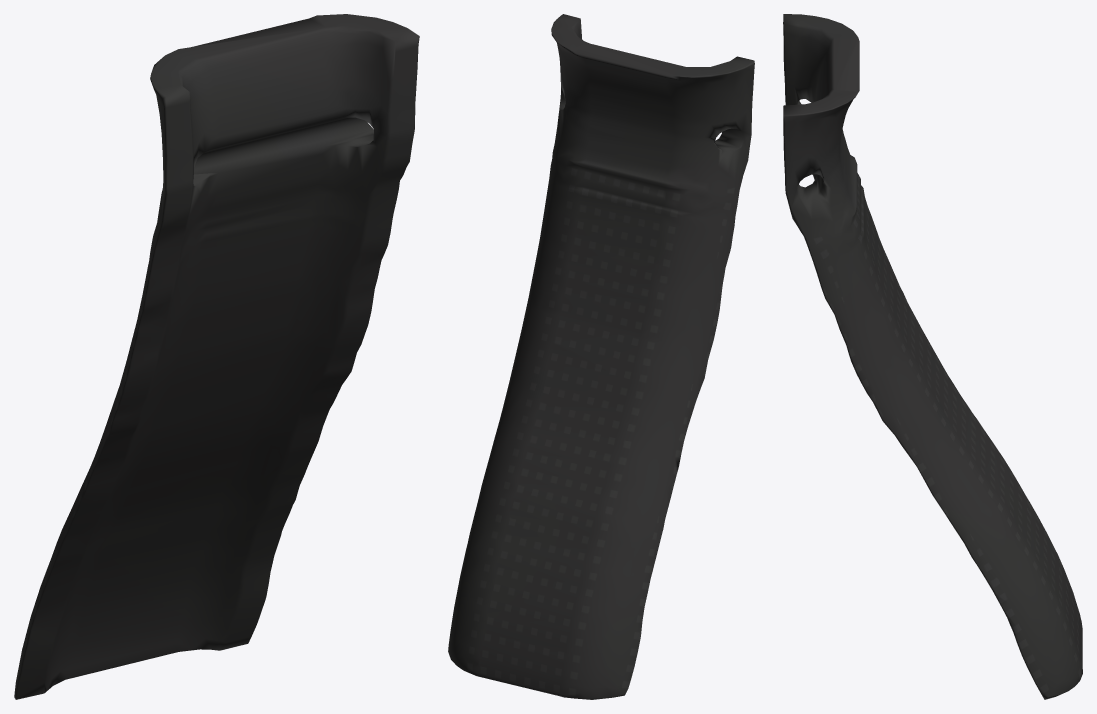
Rendered from SM_G17_Backstrap.fbx.
3 views of the same model, side by side, from view 1: azimuth 30°, elevation 25°; view 2: azimuth 150°, elevation 25°; view 3: azimuth 270°, elevation 25° (orthographic). The views are drawn at different scales.
Visible parts, largest first — view 1: SM_G17_Backstrap; view 2: SM_G17_Backstrap; view 3: SM_G17_Backstrap.
Boxes of the visible parts, x1,y1,x2,y2 form: SM_G17_Backstrap: (14, 14, 419, 699); SM_G17_Backstrap: (448, 14, 754, 699); SM_G17_Backstrap: (783, 14, 1082, 699).
Bounding box in the file's own units: 2.92 × 3.63 × 7.89.
